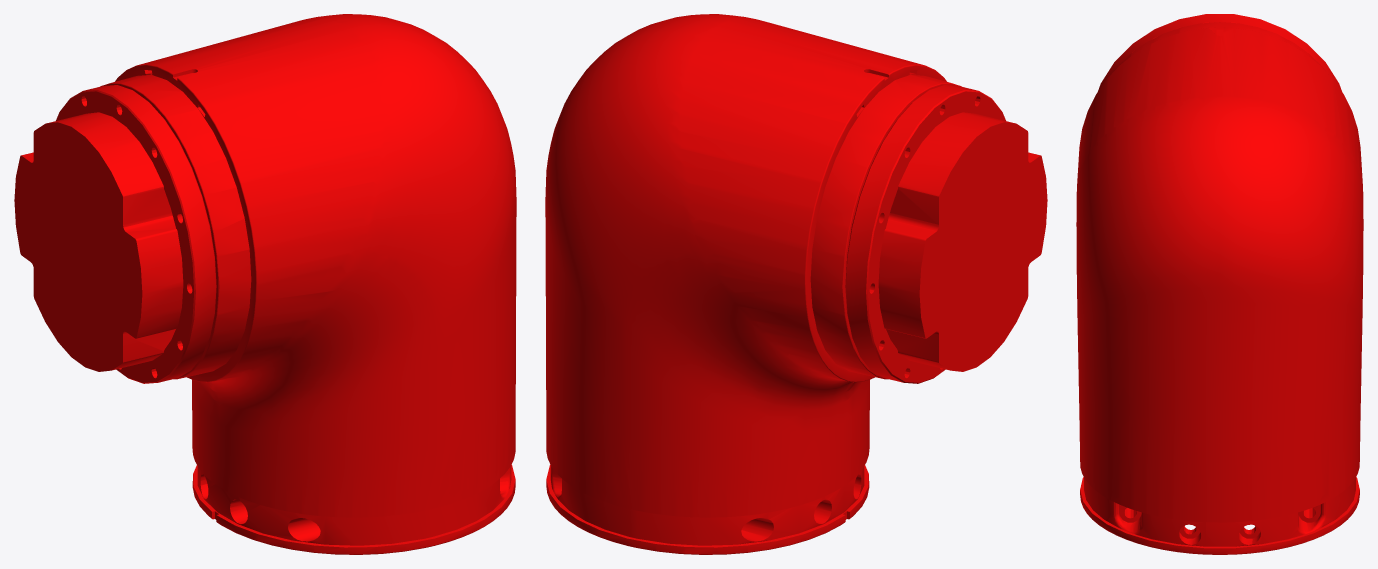
3 views of the same model, side by side, from view 1: azimuth 30°, elevation 25°; view 2: azimuth 150°, elevation 25°; view 3: azimuth 270°, elevation 25° (orthographic). The views are drawn at different scales.
Parts seen in each view (by area): view 1: solid_myCobot_320_M5_2022v1.2_230708_-_W-J2_____myCobot_320_; view 2: solid_myCobot_320_M5_2022v1.2_230708_-_W-J2_____myCobot_320_; view 3: solid_myCobot_320_M5_2022v1.2_230708_-_W-J2_____myCobot_320_.
Boxes of the visible parts, box(x1,y1,x2,y2) form: solid_myCobot_320_M5_2022v1.2_230708_-_W-J2_____myCobot_320_: box(14, 14, 516, 554); solid_myCobot_320_M5_2022v1.2_230708_-_W-J2_____myCobot_320_: box(545, 14, 1047, 554); solid_myCobot_320_M5_2022v1.2_230708_-_W-J2_____myCobot_320_: box(1076, 14, 1363, 554).
Size of the model in its own units: 111 by 76.97 by 118.
